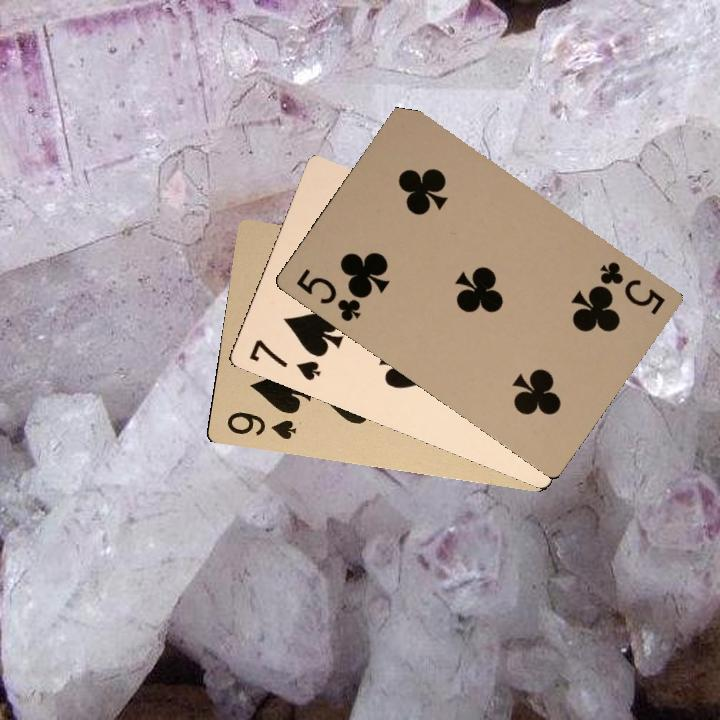5c: (292, 264, 366, 325), (595, 257, 668, 317)
7s: (245, 335, 323, 383)
9s: (222, 407, 300, 442)
